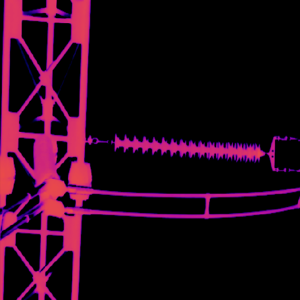insulator: (112, 126, 264, 161)
